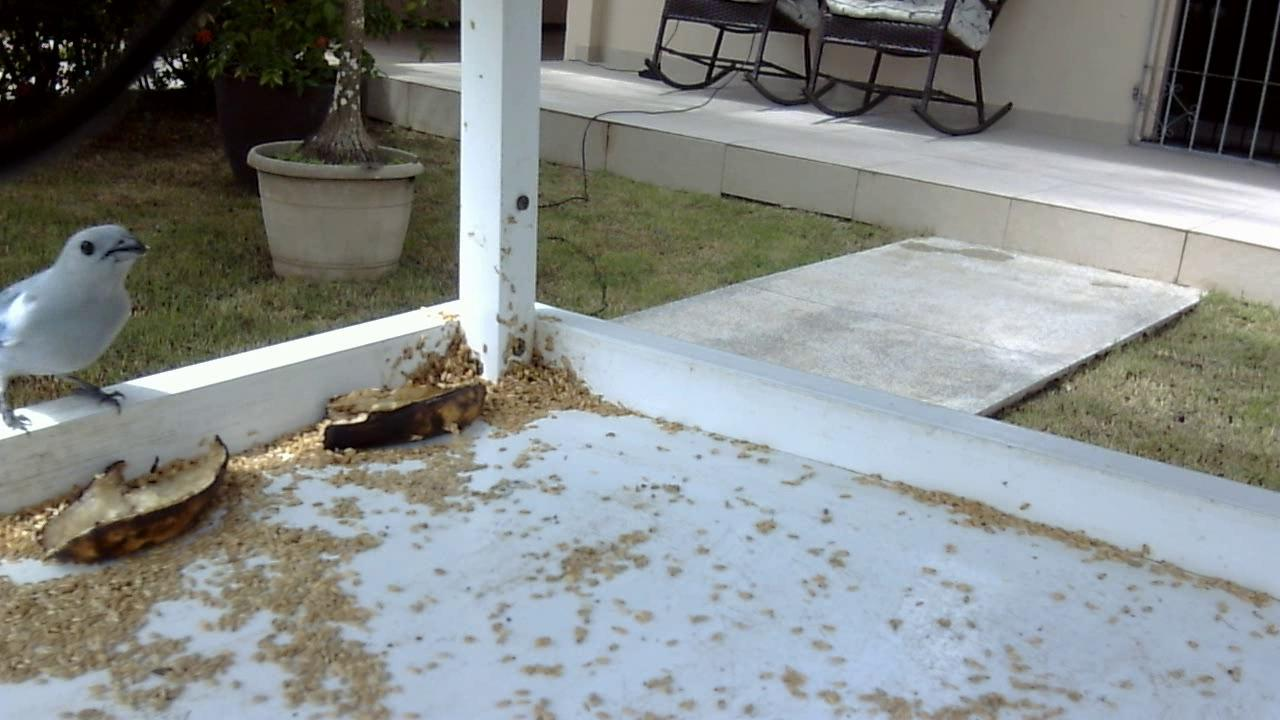sanhaco_da_amazonia: (1, 220, 159, 434)
